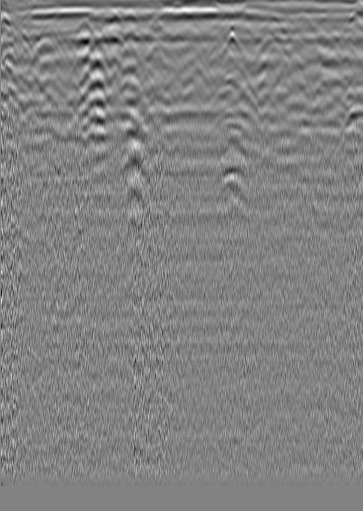가스: (212, 166, 250, 198)
상수: (313, 23, 333, 43)
오수: (29, 32, 66, 62)
우수: (181, 23, 201, 43)
